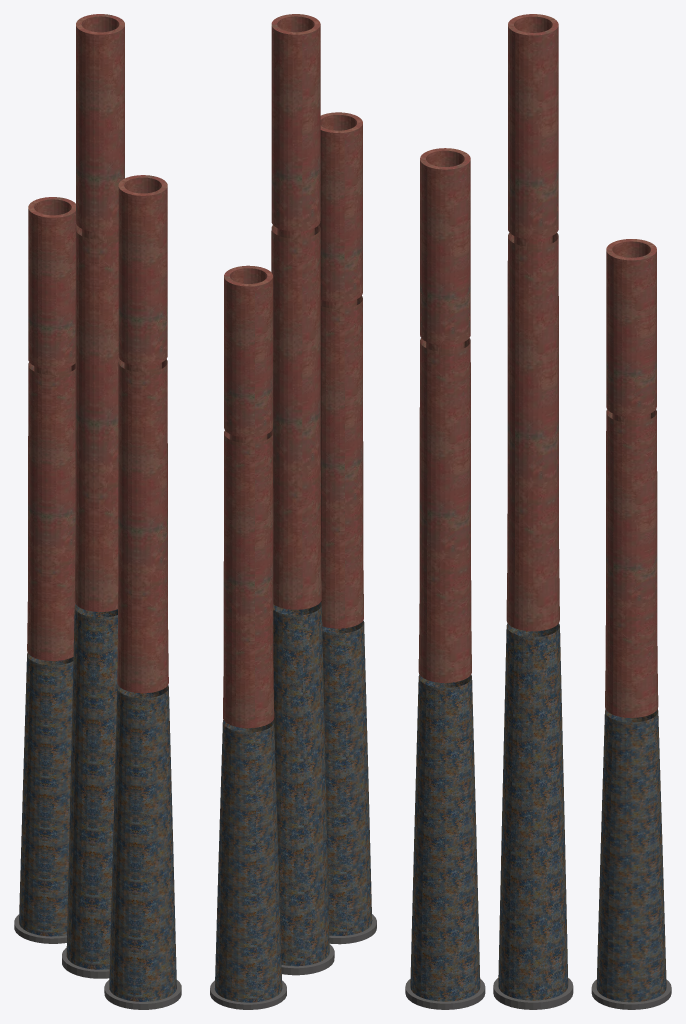
Rendered from ew-smoke-stacks.lod1.glb.
3 renders of one model, left to right at view 1: azimuth 30°, elevation 25°; view 2: azimuth 150°, elevation 25°; view 3: azimuth 270°, elevation 25°, orthographic. The views are drawn at different scales.
Visible parts, largest first — view 1: Object_4, Object_5, Object_6; view 2: Object_4, Object_5, Object_6; view 3: Object_4, Object_5, Object_6.
Part boxes in pixels (x1,y1,x2,y2): Object_4: (27, 14, 168, 693); Object_5: (19, 604, 176, 1001); Object_6: (14, 914, 181, 1009); Object_4: (223, 14, 363, 728); Object_5: (214, 602, 372, 1002); Object_6: (210, 914, 376, 1009); Object_4: (418, 14, 658, 717); Object_5: (410, 623, 666, 1002); Object_6: (405, 978, 671, 1009).
Size of the model in its own units: 3.29 by 44 by 10.97.
Materials: 3 (3 with a texture image).
